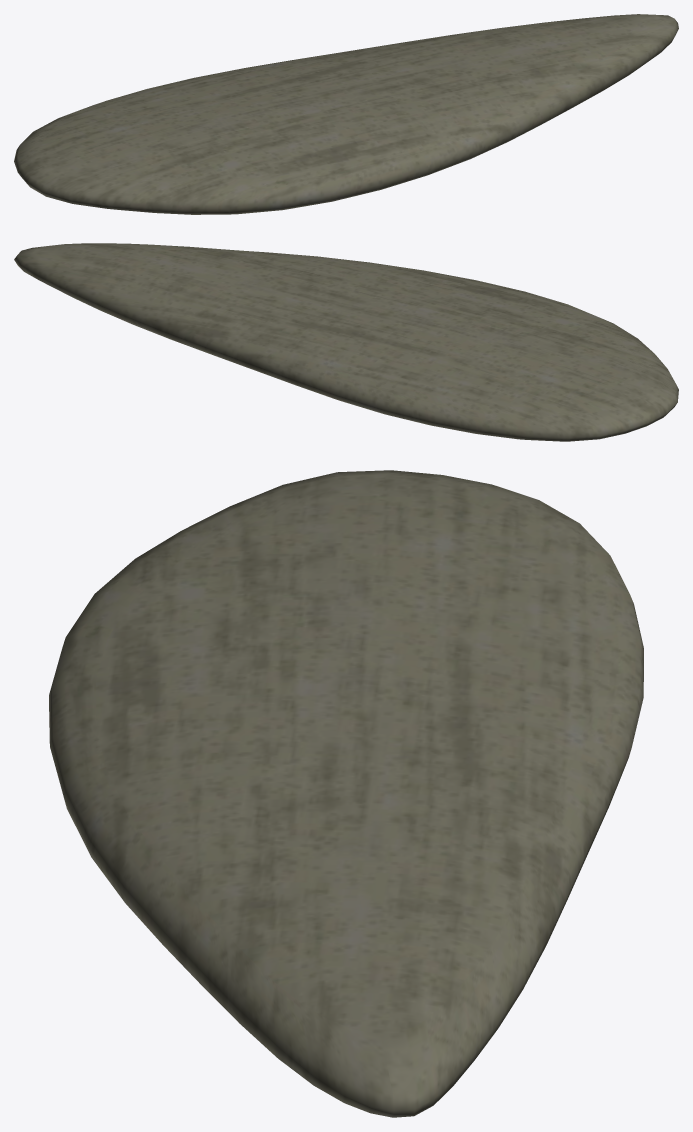
File: willow_leaf_02.glb
3 renders of one model, top to bottom at view 1: azimuth 30°, elevation 25°; view 2: azimuth 150°, elevation 25°; view 3: azimuth 270°, elevation 25°, orthographic. The views are drawn at different scales.
Visible parts, largest first — view 1: willow_leaf_02; view 2: willow_leaf_02; view 3: willow_leaf_02.
Part boxes in pixels (x1=…): willow_leaf_02: x1=14, y1=14, x2=678, y2=214; willow_leaf_02: x1=14, y1=243, x2=678, y2=441; willow_leaf_02: x1=49, y1=470, x2=643, y2=1117.
Size of the model in its own units: 0.1068 by 0.00771 by 0.0425.
Materials: 1 (1 with a texture image).
